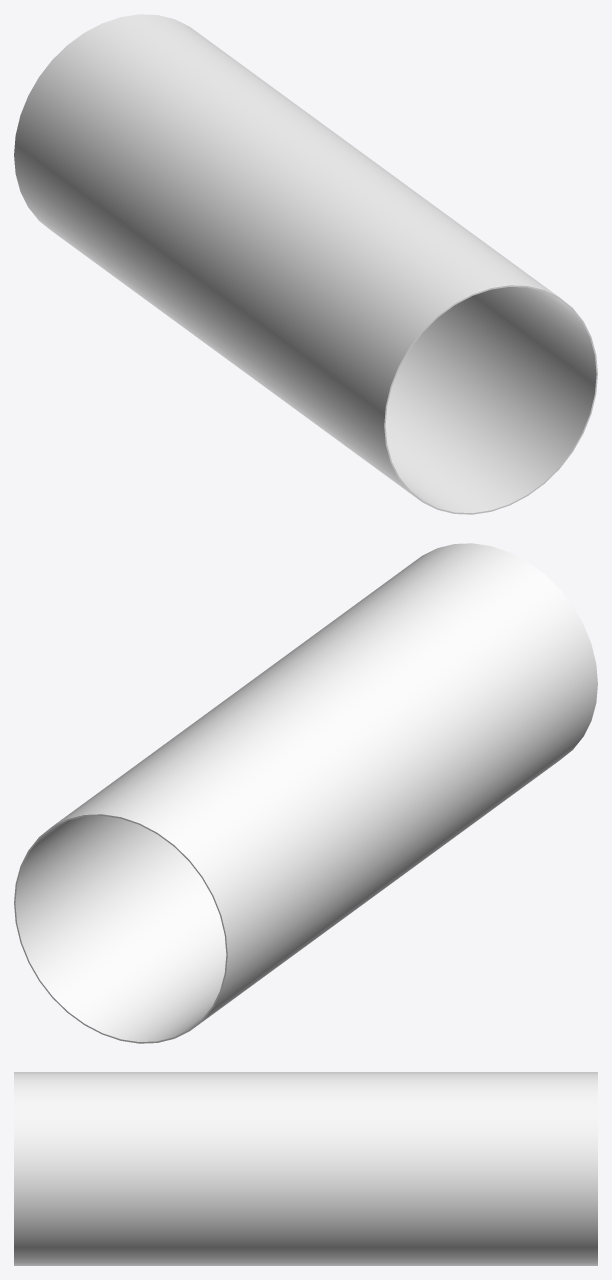
The model's file is Large straight tube 2.fbx.
3 views of the same model, one above another, from view 1: azimuth 30°, elevation 25°; view 2: azimuth 150°, elevation 25°; view 3: azimuth 270°, elevation 25° (orthographic). The views are drawn at different scales.
Visible parts, largest first — view 1: Large straight tube.003; view 2: Large straight tube.003; view 3: Large straight tube.003.
Boxes of the visible parts, <box> form: Large straight tube.003: <box>14,14,597,514</box>; Large straight tube.003: <box>14,543,597,1043</box>; Large straight tube.003: <box>14,1072,597,1265</box>.
Bounding box in the file's own units: 600 × 600 × 1800.
